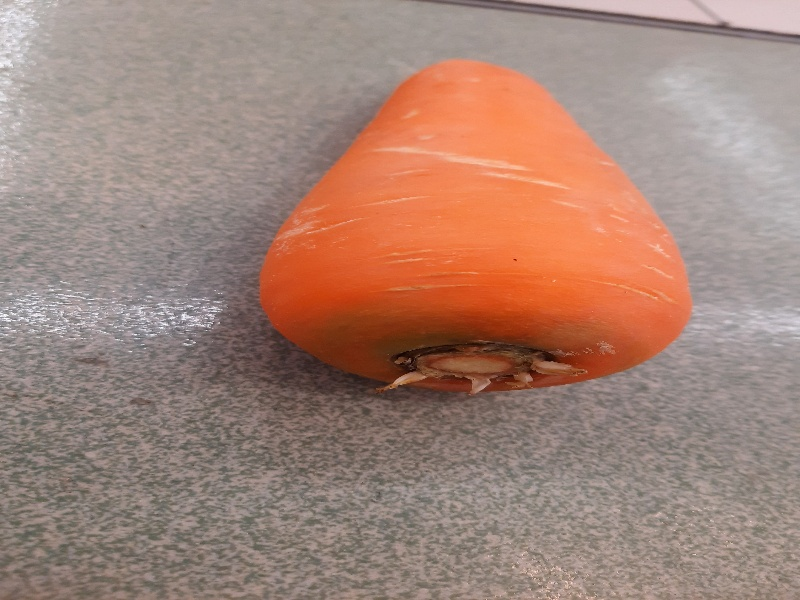vege: (243, 56, 695, 405)
